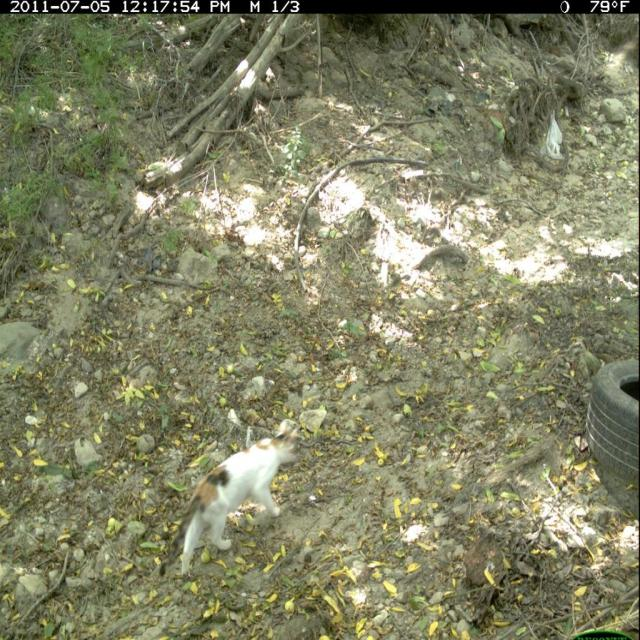cat: (156, 422, 306, 585)
